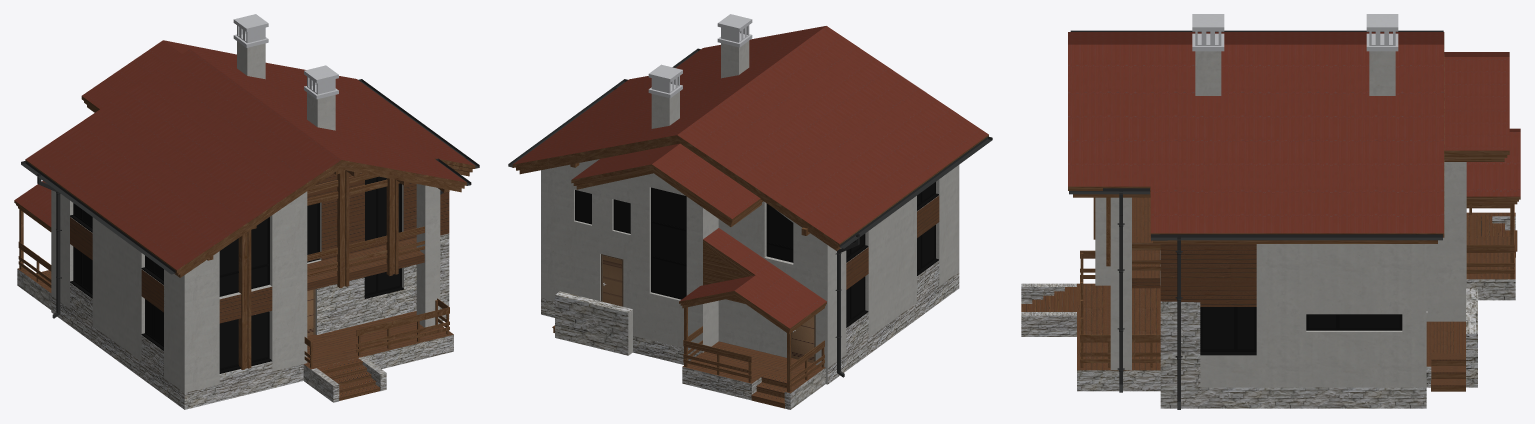
Rendered from house3.glb.
3 views of the same model, side by side, from view 1: azimuth 30°, elevation 25°; view 2: azimuth 150°, elevation 25°; view 3: azimuth 270°, elevation 25° (orthographic). The views are drawn at different scales.
Parts seen in each view (by area): view 1: Object_7, Object_4, Object_6, Object_15, Object_5, Object_11, Object_9, Object_10, Object_8; view 2: Object_7, Object_4, Object_6, Object_15, Object_11, Object_5, Object_9, Object_10, Object_8, Object_13; view 3: Object_7, Object_4, Object_5, Object_15, Object_6, Object_9, Object_11, Object_8, Object_10.
Part boxes in pixels (box(x1,y1,x2,y2)): Object_7: box(14, 40, 474, 269); Object_4: box(51, 41, 440, 392); Object_6: box(14, 96, 475, 400); Object_15: box(17, 233, 453, 409); Object_5: box(18, 173, 453, 398); Object_11: box(74, 176, 400, 368); Object_9: box(21, 79, 479, 318); Object_10: box(70, 177, 403, 373); Object_8: box(233, 14, 338, 99); Object_7: box(513, 26, 988, 328); Object_4: box(541, 41, 959, 384); Object_6: box(512, 135, 988, 408); Object_15: box(541, 260, 959, 409); Object_11: box(577, 183, 934, 321); Object_5: box(553, 195, 939, 404); Object_9: box(508, 48, 992, 377); Object_10: box(575, 182, 938, 327); Object_8: box(648, 14, 752, 97); Object_13: box(603, 255, 814, 362); Object_7: box(1068, 32, 1520, 233); Object_4: box(1095, 51, 1466, 387); Object_5: box(1021, 197, 1517, 386); Object_15: box(1021, 216, 1515, 408); Object_6: box(1068, 32, 1520, 391); Object_9: box(1069, 30, 1443, 409); Object_11: box(1202, 307, 1399, 348); Object_8: box(1192, 14, 1398, 51); Object_10: box(1200, 307, 1402, 355).
Bounding box in the file's own units: 12.62 × 9.18 × 12.89.
Materials: 12 (9 with a texture image).
